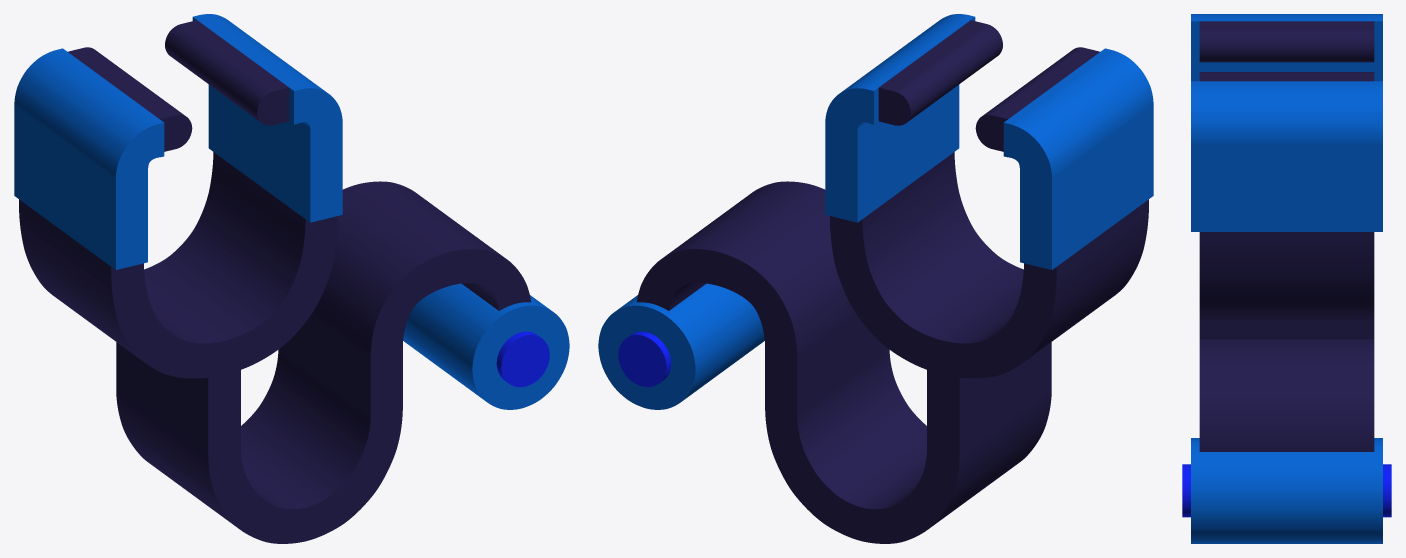
3 renders of one model, left to right at view 1: azimuth 30°, elevation 25°; view 2: azimuth 150°, elevation 25°; view 3: azimuth 270°, elevation 25°, orthographic. The views are drawn at different scales.
Visible parts, largest first — view 1: U+1FA7A_layer00_obj00, U+1FA7A_layer01_obj00, U+1FA7A_layer02_obj00; view 2: U+1FA7A_layer00_obj00, U+1FA7A_layer01_obj00, U+1FA7A_layer02_obj00; view 3: U+1FA7A_layer01_obj00, U+1FA7A_layer00_obj00, U+1FA7A_layer02_obj00.
Boxes of the visible parts, x1,y1,x2,y2 form: U+1FA7A_layer00_obj00: (19, 20, 531, 543); U+1FA7A_layer01_obj00: (14, 14, 569, 409); U+1FA7A_layer02_obj00: (496, 331, 549, 387); U+1FA7A_layer00_obj00: (636, 20, 1148, 543); U+1FA7A_layer01_obj00: (598, 14, 1153, 409); U+1FA7A_layer02_obj00: (618, 331, 671, 387); U+1FA7A_layer01_obj00: (1191, 14, 1382, 543); U+1FA7A_layer00_obj00: (1199, 21, 1374, 451); U+1FA7A_layer02_obj00: (1182, 464, 1391, 517).
Bounding box in the file's own units: 0.5678 × 0.5474 × 0.24.
